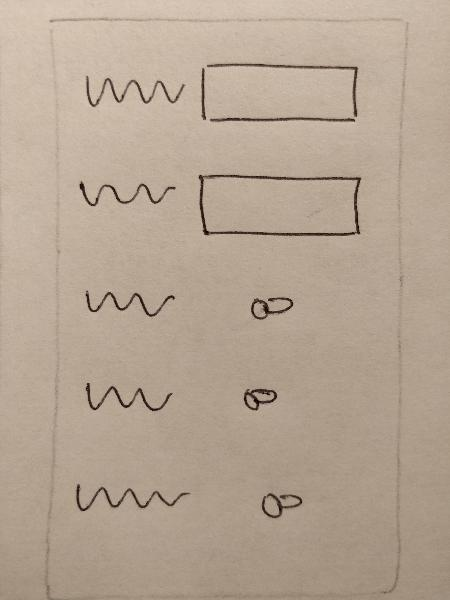image: (68, 470, 195, 521), (78, 368, 179, 424), (74, 170, 183, 218), (81, 277, 178, 323)
switch: (243, 284, 301, 328), (251, 482, 313, 523), (239, 377, 288, 419)
text: (74, 63, 188, 115)
text_input: (194, 166, 366, 247), (196, 53, 366, 133)
